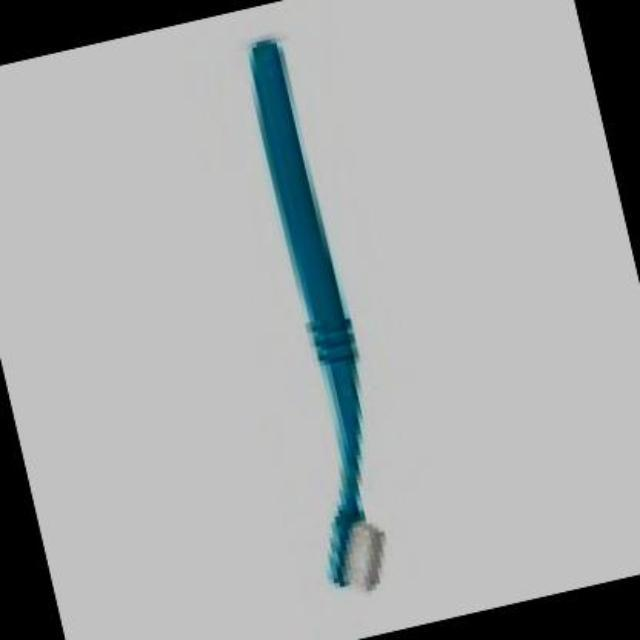toothbrush: (176, 2, 456, 624)
